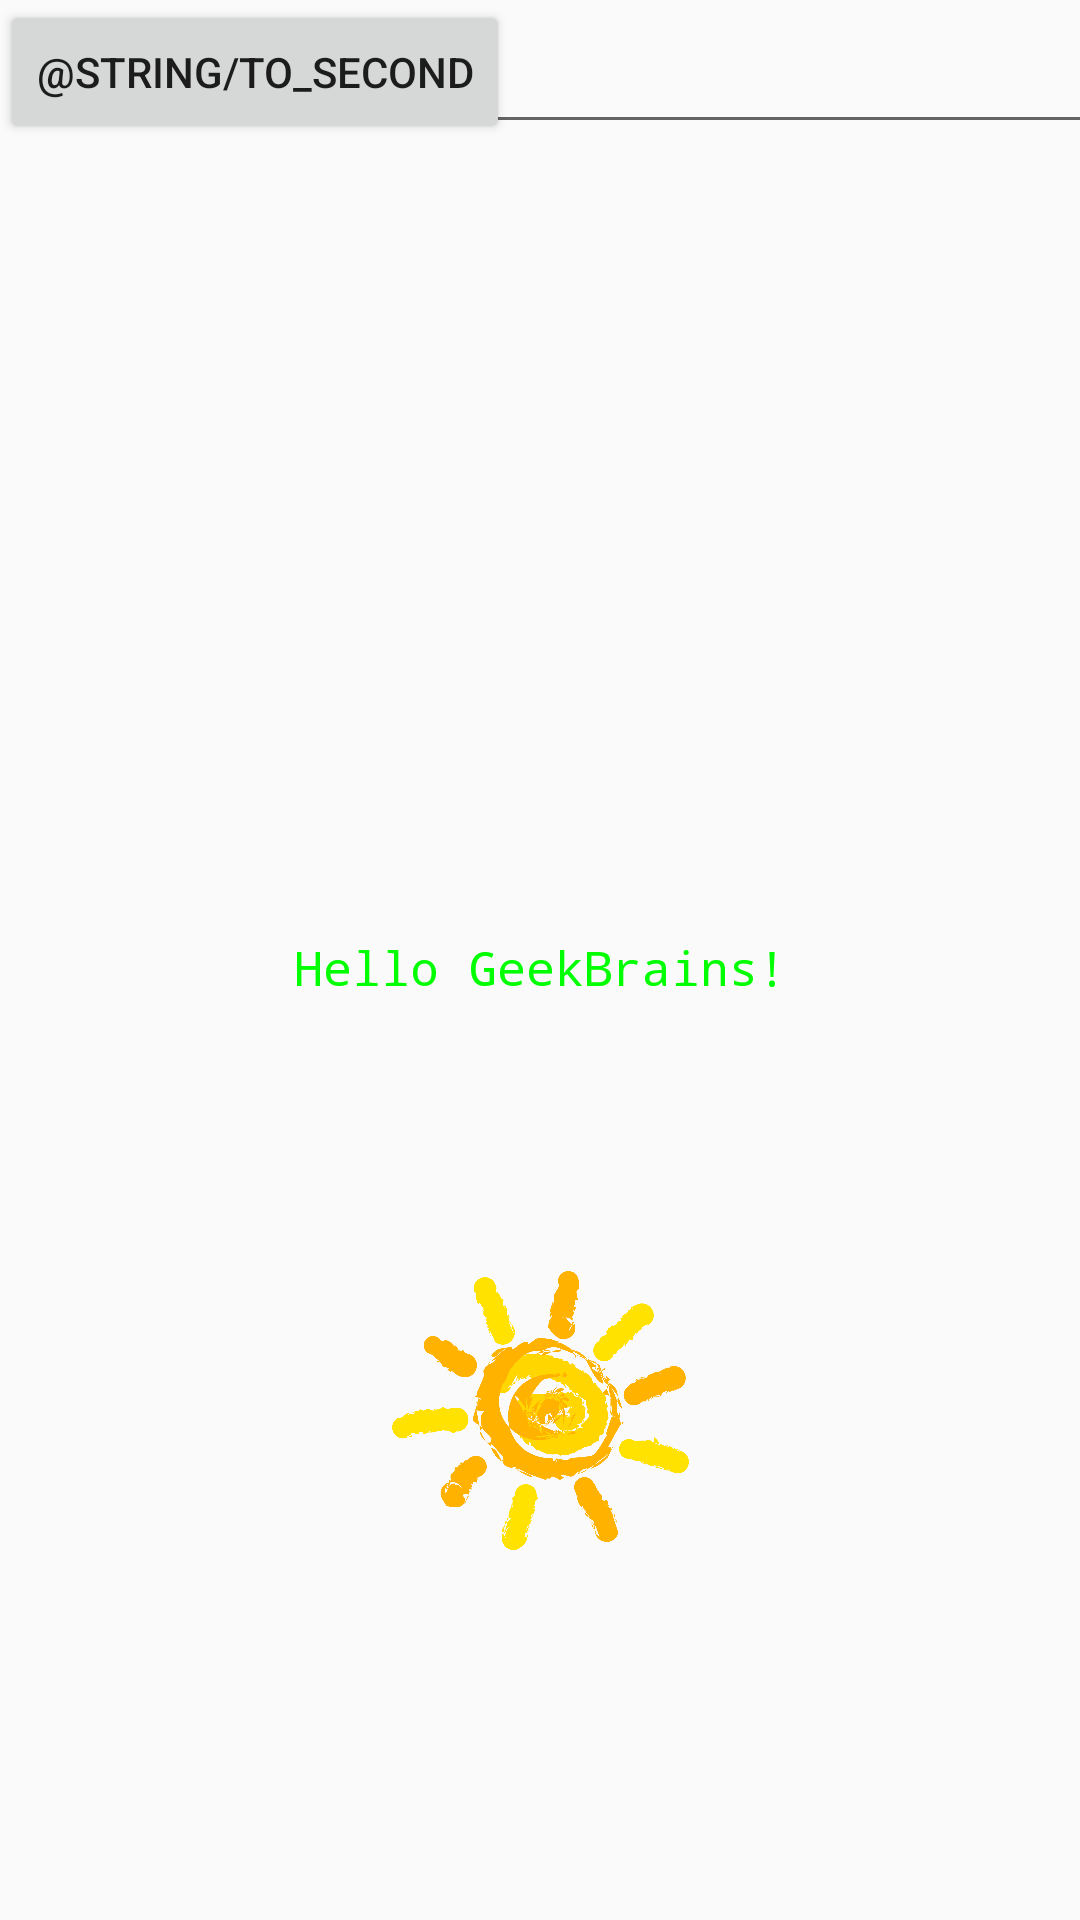

Locate icon controls on the screen. Image size 1080 x 1920, boxes as (x1, y1, x2, y2).
sun: (392, 1271, 689, 1550)
